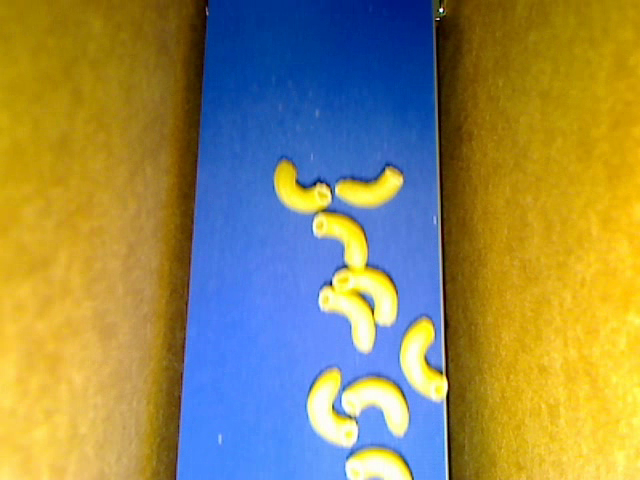elbow: (305, 365, 360, 447), (340, 374, 408, 437), (399, 315, 447, 401), (331, 265, 399, 325), (317, 285, 376, 354), (311, 210, 368, 271), (273, 157, 332, 215), (335, 163, 404, 211), (344, 445, 413, 479)
